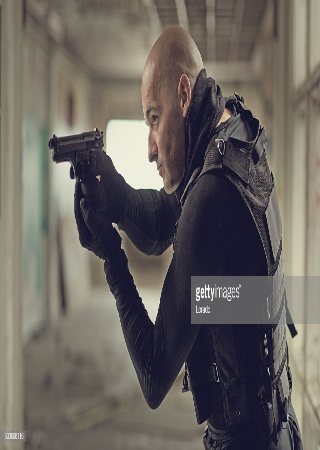handgun: (45, 127, 108, 191)
